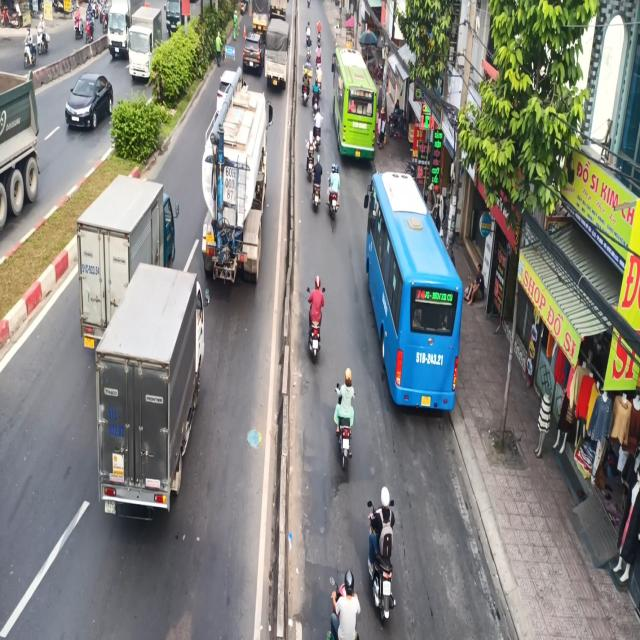bus: (363, 168, 463, 429), (331, 49, 378, 162)
motor: (370, 484, 400, 623), (333, 366, 355, 479), (302, 277, 328, 370)
truck: (94, 254, 208, 536), (198, 88, 273, 293), (266, 16, 288, 98)
